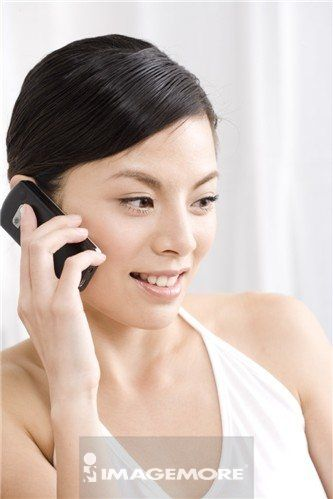phone: (1, 173, 101, 292)
talk: (1, 156, 230, 442)
